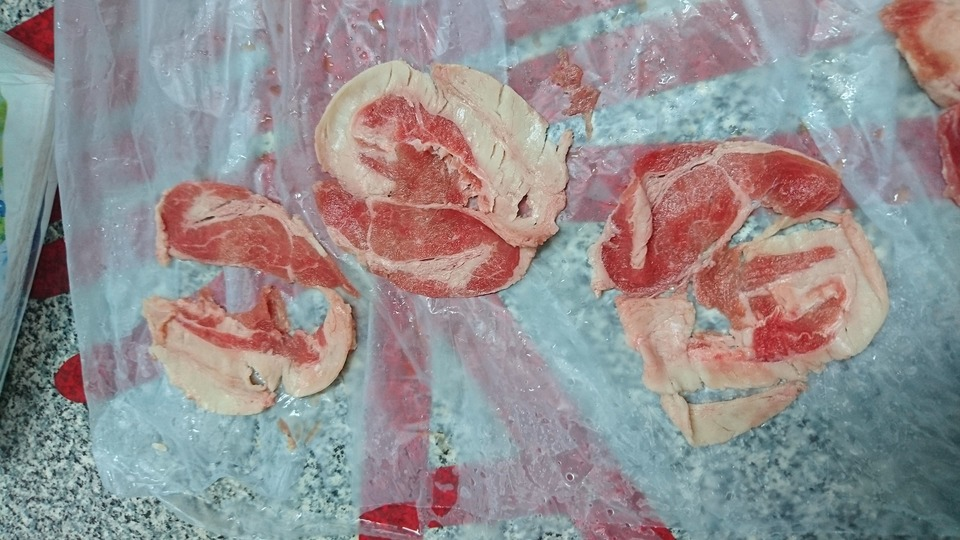restructured meat: (589, 122, 899, 448), (312, 50, 578, 303), (134, 182, 357, 415)
